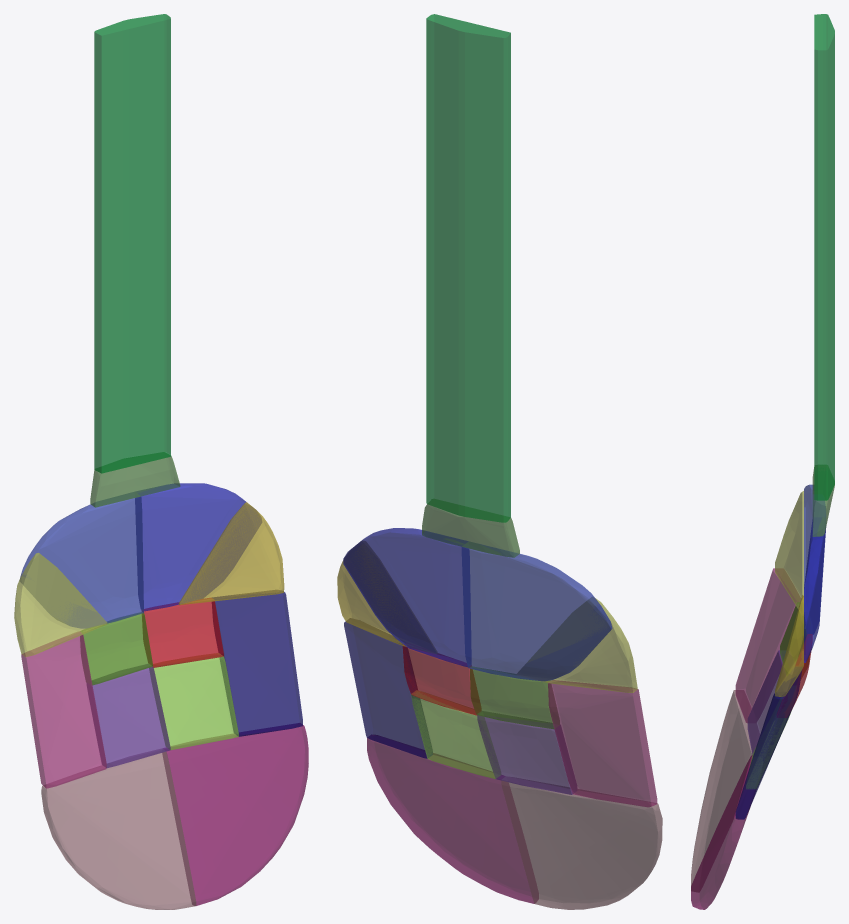
Rendered from spoon_flat.obj.
3 views of the same model, side by side, from view 1: azimuth 30°, elevation 25°; view 2: azimuth 150°, elevation 25°; view 3: azimuth 270°, elevation 25° (orthographic). The views are drawn at different scales.
Visible parts, largest first — view 1: Shape_IndexedFaceSet.001_Shape_IndexedFaceSet.170, Shape_IndexedFaceSet.003_Shape_IndexedFaceSet.172, Shape_IndexedFaceSet.002_Shape_IndexedFaceSet.171, Shape_IndexedFaceSet.006_Shape_IndexedFaceSet.175, Shape_IndexedFaceSet.009_Shape_IndexedFaceSet.178, Shape_IndexedFaceSet.007_Shape_IndexedFaceSet.176, Shape_IndexedFaceSet.004_Shape_IndexedFaceSet.173, Shape_IndexedFaceSet.012_Shape_IndexedFaceSet.181, Shape_IndexedFaceSet.008_Shape_IndexedFaceSet.177, Shape_IndexedFaceSet.010_Shape_IndexedFaceSet.179, Shape_IndexedFaceSet.005_Shape_IndexedFaceSet.174, Shape_IndexedFaceSet.013_Shape_IndexedFaceSet.182 (+2 smaller); view 2: Shape_IndexedFaceSet.001_Shape_IndexedFaceSet.170, Shape_IndexedFaceSet.002_Shape_IndexedFaceSet.171, Shape_IndexedFaceSet.006_Shape_IndexedFaceSet.175, Shape_IndexedFaceSet.003_Shape_IndexedFaceSet.172, Shape_IndexedFaceSet.009_Shape_IndexedFaceSet.178, Shape_IndexedFaceSet.004_Shape_IndexedFaceSet.173, Shape_IndexedFaceSet.007_Shape_IndexedFaceSet.176, Shape_IndexedFaceSet.005_Shape_IndexedFaceSet.174, Shape_IndexedFaceSet.010_Shape_IndexedFaceSet.179, Shape_IndexedFaceSet.008_Shape_IndexedFaceSet.177, Shape_IndexedFaceSet.012_Shape_IndexedFaceSet.181, Shape_IndexedFaceSet.011_Shape_IndexedFaceSet.180 (+2 smaller); view 3: Shape_IndexedFaceSet.001_Shape_IndexedFaceSet.170, Shape_IndexedFaceSet.002_Shape_IndexedFaceSet.171, Shape_IndexedFaceSet.004_Shape_IndexedFaceSet.173, Shape_IndexedFaceSet.003_Shape_IndexedFaceSet.172, Shape_IndexedFaceSet.007_Shape_IndexedFaceSet.176, Shape_IndexedFaceSet.006_Shape_IndexedFaceSet.175, Shape_IndexedFaceSet.009_Shape_IndexedFaceSet.178, Shape_IndexedFaceSet.005_Shape_IndexedFaceSet.174, Shape_IndexedFaceSet.010_Shape_IndexedFaceSet.179, Shape_IndexedFaceSet.008_Shape_IndexedFaceSet.177, Shape_IndexedFaceSet.012_Shape_IndexedFaceSet.181, Shape_IndexedFaceSet_Shape_IndexedFaceSet.169 (+2 smaller).
Part boxes in pixels (x1,y1,x2,y2): Shape_IndexedFaceSet.001_Shape_IndexedFaceSet.170: (94,14,170,473); Shape_IndexedFaceSet.003_Shape_IndexedFaceSet.172: (163,723,308,905); Shape_IndexedFaceSet.002_Shape_IndexedFaceSet.171: (41,749,196,909); Shape_IndexedFaceSet.006_Shape_IndexedFaceSet.175: (20,492,143,628); Shape_IndexedFaceSet.009_Shape_IndexedFaceSet.178: (135,483,261,611); Shape_IndexedFaceSet.007_Shape_IndexedFaceSet.176: (212,590,302,736); Shape_IndexedFaceSet.004_Shape_IndexedFaceSet.173: (21,632,106,788); Shape_IndexedFaceSet.012_Shape_IndexedFaceSet.181: (149,653,238,749); Shape_IndexedFaceSet.008_Shape_IndexedFaceSet.177: (178,502,284,604); Shape_IndexedFaceSet.010_Shape_IndexedFaceSet.179: (87,664,170,768); Shape_IndexedFaceSet.005_Shape_IndexedFaceSet.174: (14,552,107,656); Shape_IndexedFaceSet.013_Shape_IndexedFaceSet.182: (142,598,223,667); Shape_IndexedFaceSet.001_Shape_IndexedFaceSet.170: (426,14,510,522); Shape_IndexedFaceSet.002_Shape_IndexedFaceSet.171: (501,777,662,909); Shape_IndexedFaceSet.006_Shape_IndexedFaceSet.175: (461,542,612,681); Shape_IndexedFaceSet.003_Shape_IndexedFaceSet.172: (367,735,538,903); Shape_IndexedFaceSet.009_Shape_IndexedFaceSet.178: (343,528,470,667); Shape_IndexedFaceSet.004_Shape_IndexedFaceSet.173: (548,680,657,807); Shape_IndexedFaceSet.007_Shape_IndexedFaceSet.176: (344,618,432,758); Shape_IndexedFaceSet.005_Shape_IndexedFaceSet.174: (517,597,637,692); Shape_IndexedFaceSet.010_Shape_IndexedFaceSet.179: (477,711,576,794); Shape_IndexedFaceSet.008_Shape_IndexedFaceSet.177: (337,541,436,653); Shape_IndexedFaceSet.012_Shape_IndexedFaceSet.181: (411,690,500,778); Shape_IndexedFaceSet.011_Shape_IndexedFaceSet.180: (470,666,559,729); Shape_IndexedFaceSet.001_Shape_IndexedFaceSet.170: (814,14,834,500); Shape_IndexedFaceSet.002_Shape_IndexedFaceSet.171: (691,690,759,891); Shape_IndexedFaceSet.004_Shape_IndexedFaceSet.173: (735,568,800,723); Shape_IndexedFaceSet.003_Shape_IndexedFaceSet.172: (691,755,755,909); Shape_IndexedFaceSet.007_Shape_IndexedFaceSet.176: (735,667,802,819); Shape_IndexedFaceSet.006_Shape_IndexedFaceSet.175: (804,484,825,634); Shape_IndexedFaceSet.009_Shape_IndexedFaceSet.178: (804,517,826,662); Shape_IndexedFaceSet.005_Shape_IndexedFaceSet.174: (775,491,803,614); Shape_IndexedFaceSet.010_Shape_IndexedFaceSet.179: (747,650,785,754); Shape_IndexedFaceSet.008_Shape_IndexedFaceSet.177: (775,595,803,696); Shape_IndexedFaceSet.012_Shape_IndexedFaceSet.181: (746,697,791,788); Shape_IndexedFaceSet_Shape_IndexedFaceSet.169: (812,465,834,536).
Size of the model in its own units: 0.0664 by 0.2009 by 0.0305.
